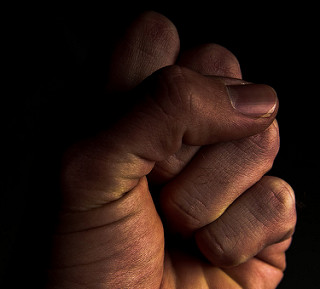fist: (74, 17, 290, 282)
